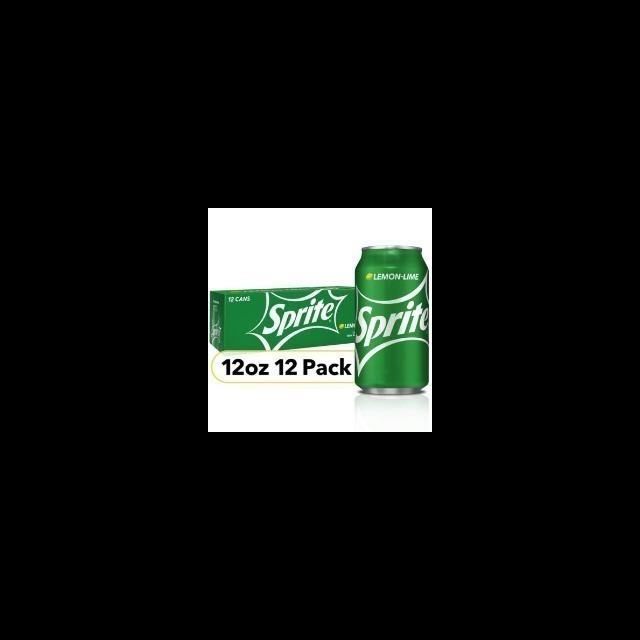metal: (353, 239, 432, 402)
